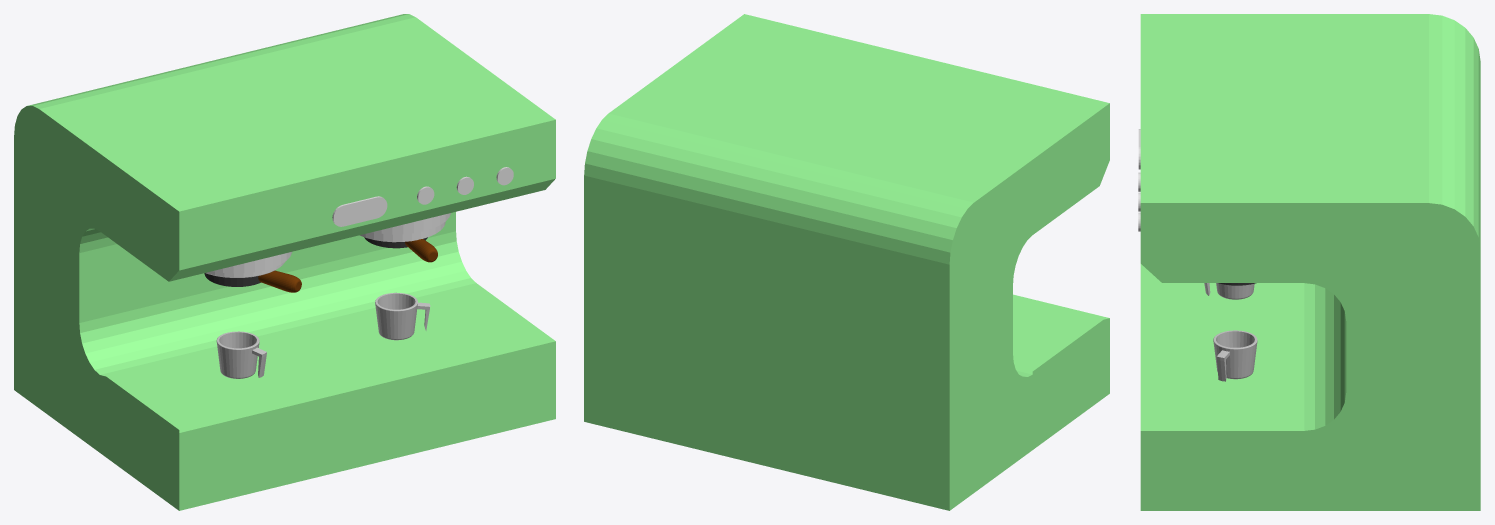
The model's file is CoffeeMacnine_Small.glb.
3 renders of one model, left to right at view 1: azimuth 30°, elevation 25°; view 2: azimuth 150°, elevation 25°; view 3: azimuth 270°, elevation 25°, orthographic. The views are drawn at different scales.
Parts seen in each view (by area): view 1: Default.001, Cup.003, Cup.004, Extractor.003, Extractor.004; view 2: Default.001; view 3: Default.001, Cup.004, Cup.003.
Boxes of the visible parts, <box> form: Default.001: <box>14,14,555,510</box>; Cup.003: <box>216,331,266,378</box>; Cup.004: <box>375,292,430,340</box>; Extractor.003: <box>204,270,301,292</box>; Extractor.004: <box>364,237,437,262</box>; Default.001: <box>584,14,1109,510</box>; Default.001: <box>1138,14,1480,510</box>; Cup.004: <box>1213,330,1257,381</box>; Cup.003: <box>1204,283,1254,299</box>.
Bounding box in the file's own units: 0.8058 × 0.612 × 0.6161.
